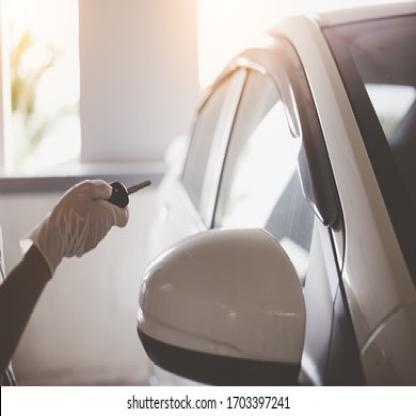with_gloves: (20, 178, 130, 282)
